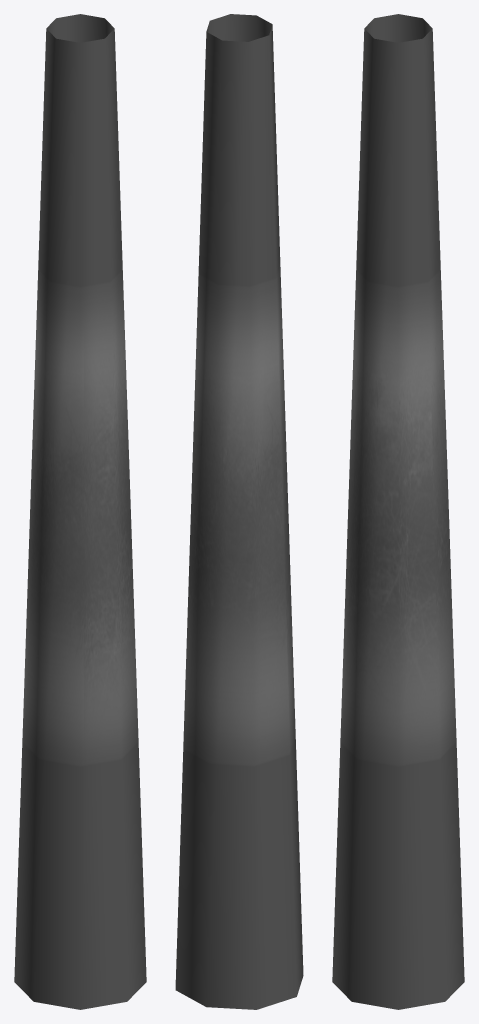
File: beam.fbx
3 renders of one model, left to right at view 1: azimuth 90°, elevation 25°; view 2: azimuth 150°, elevation 25°; view 3: azimuth 270°, elevation 25°, orthographic.
Visible parts, largest first — view 1: beam; view 2: beam; view 3: beam.
Boxes of the visible parts, <box> form: beam: <box>14,14,146,1009</box>; beam: <box>175,14,303,1009</box>; beam: <box>332,14,464,1009</box>.
Bounding box in the file's own units: 2.77 × 21.98 × 2.77.
